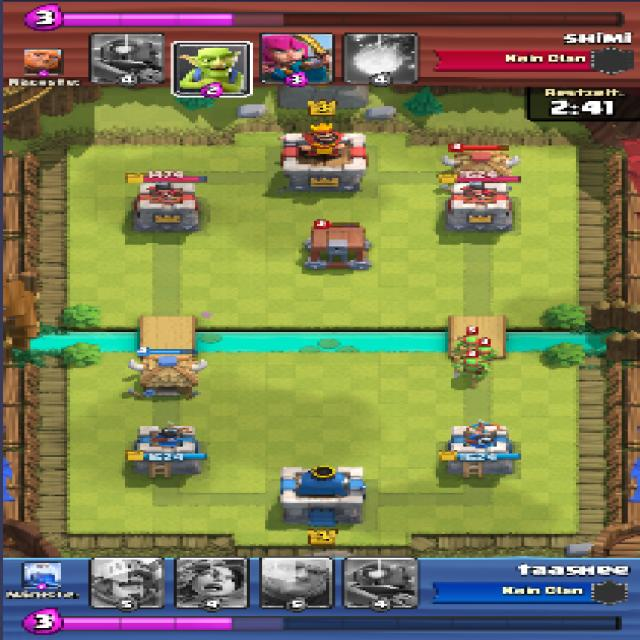Enemy-GoblinHut: (440, 150, 522, 183)
Enemy-SpearGoblin: (451, 356, 489, 378), (453, 334, 484, 350), (471, 346, 498, 363)
Player-GoblinCage: (302, 225, 373, 269)
Player-GoblinHut: (128, 354, 207, 398)
